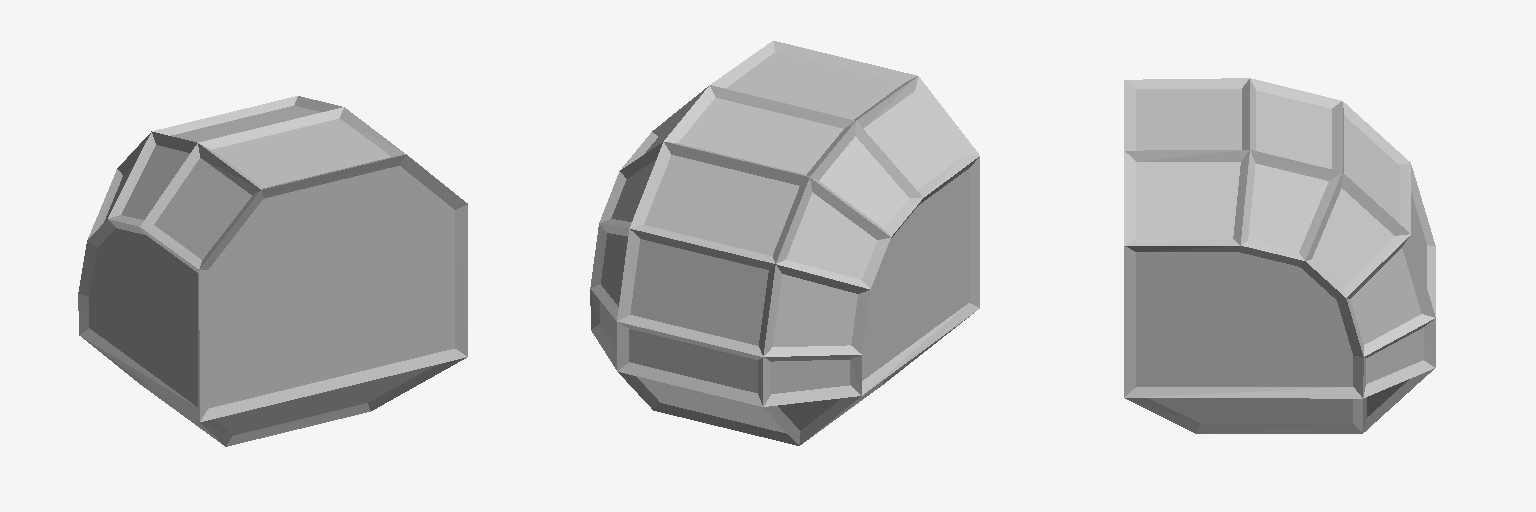
File: turret_head_wire.obj
The picture shows the model from 3 angles: view 1: azimuth 30°, elevation 25°; view 2: azimuth 150°, elevation 25°; view 3: azimuth 270°, elevation 25°; orthographic projection.
Parts seen in each view (by area): view 1: Cube.001, Cube; view 2: Cube.001, Cube; view 3: Cube.001, Cube.
Boxes of the visible parts, box(x1,y1,x2,y2) form: Cube.001: box(89, 106, 454, 435); Cube: box(78, 96, 467, 446); Cube.001: box(600, 52, 969, 433); Cube: box(590, 41, 979, 445); Cube.001: box(1136, 89, 1426, 423); Cube: box(1124, 78, 1435, 433).
Bounding box in the file's own units: 8.89 × 8.88 × 8.83.